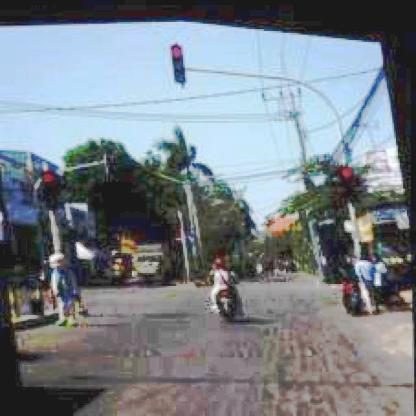Traffic Light -Red-: (170, 38, 190, 82), (42, 167, 62, 211), (339, 159, 357, 197)
